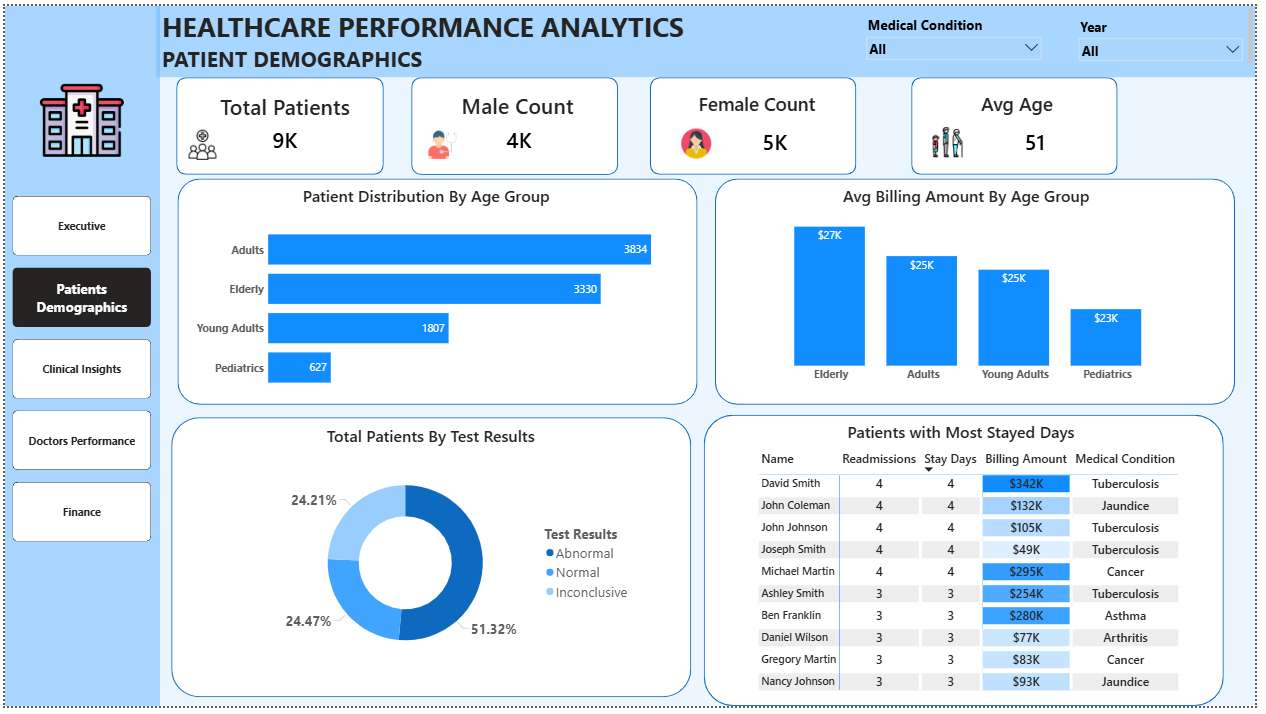

The page's visual inventory and layout, read from the dashboard file:
{"tool":"powerbi","page":{"name":"Patients Demographics","canvas":[2500,1400],"ordinal":1},"visuals":[{"type":"shape","box":[0,0,310,1400],"z":0},{"type":"shape","box":[1812.5,143,412.5,195],"z":1000},{"type":"shape","box":[302.5,0,2197.5,142.5],"z":2000},{"type":"shape","box":[1290.6,143,412.5,195],"z":3000},{"type":"textbox","box":[310,0,2190,127.5],"z":4000},{"type":"shape","box":[813.7,142.5,413.6,195.5],"z":5000},{"type":"slicer","fields":{"Values":["Healthcare Dataset.Medical Condition"]},"box":[1713.6,15,370,102.5],"z":6000},{"type":"shape","box":[342.9,142.5,415,195],"z":7000},{"type":"slicer","fields":{"Values":["Date_Table.Year"]},"box":[2138.6,17.5,347.5,100],"z":8000},{"type":"cardVisual","fields":{"Data":["_Measures.Total Patients"]},"box":[422.9,217.5,275,97.5],"z":9000},{"type":"image","box":[65,145,177.5,167.5],"z":10000},{"type":"textbox","box":[375.4,167.5,370,72.5],"z":11000},{"type":"image","box":[1835,242.5,100,60],"z":12000},{"type":"cardVisual","fields":{"Data":["_Measures.Male Count"]},"box":[897.8,217.5,261.4,97.7],"z":13000},{"type":"image","box":[1332.5,245,100,60],"z":14000},{"type":"textbox","box":[841,165.2,370.5,72.7],"z":15000},{"type":"image","box":[824.1,247.5,100,60],"z":16000},{"type":"cardVisual","fields":{"Data":["_Measures.Female Count"]},"box":[1420.6,220.5,240,100],"z":17000},{"type":"image","box":[345.4,247.5,100,60],"z":18000},{"type":"textbox","box":[1316.7,165.6,372.5,72.5],"z":19000},{"type":"shape","box":[344.6,345.9,1040,452.5],"z":20000},{"type":"cardVisual","fields":{"Data":["_Measures.Avg Age"]},"box":[1942.5,220.5,235,100],"z":21000},{"type":"textbox","box":[574.8,351.6,535,52.5],"z":22000},{"type":"textbox","box":[1837.5,165.5,372.5,72.5],"z":23000},{"type":"shape","box":[1420.2,345,1040,452.5],"z":24000},{"type":"shape","box":[332.5,822.5,1040,560],"z":25000},{"type":"shape","box":[1397.5,817.5,1040,582.5],"z":26000},{"type":"textbox","box":[583.8,832.5,532.5,55],"z":27000},{"type":"textbox","box":[1652.9,352.5,540,52.5],"z":28000},{"type":"textbox","box":[1631.2,825,550,52.5],"z":29000},{"type":"pageNavigator","box":[15,380,277.5,695],"z":30000},{"type":"clusteredBarChart","title":"Patients Distribution by Age Group","fields":{"Category":["Healthcare Dataset.Age Group"],"Y":["_Measures.Total Patients"]},"box":[377.1,413.4,972.5,380],"z":31000},{"type":"donutChart","title":"Patients by Test Results","fields":{"Category":["Healthcare Dataset.Test Results"],"Y":["_Measures.Total Patients"]},"box":[517.5,890,742.5,447.5],"z":32000},{"type":"columnChart","fields":{"Category":["Healthcare Dataset.Age Group"],"Y":["Avg(Healthcare Dataset.Billing Amount)"]},"box":[1500.4,427.5,857.5,335],"z":33000},{"type":"pivotTable","title":"Patients with Most Stayed Days","fields":{"Rows":["Healthcare Dataset.Name"],"Values":["_Measures.Readmissions Count","Sum(Healthcare Dataset.Stay Duration)","Sum(Healthcare Dataset.Billing Amount)","Min(Healthcare Dataset.Medical Condition)"]},"box":[1502.5,882.5,862.5,500],"z":34000}]}

Visuals, with their boxes in screenshot pixels (x1, y1, x2, y2), scaled from the page's 2500x1400 canvas onto the 1266x714 screenshot:
shape: x1=0 y1=0 x2=157 y2=713
shape: x1=918 y1=73 x2=1127 y2=172
shape: x1=153 y1=0 x2=1265 y2=73
shape: x1=654 y1=73 x2=862 y2=172
textbox: x1=157 y1=0 x2=1265 y2=65
shape: x1=412 y1=73 x2=622 y2=172
slicer - Healthcare Dataset.Medical Condition: x1=868 y1=8 x2=1055 y2=60
shape: x1=174 y1=73 x2=384 y2=172
slicer - Date_Table.Year: x1=1083 y1=9 x2=1259 y2=60
cardVisual - _Measures.Total Patients: x1=214 y1=111 x2=353 y2=161
image: x1=33 y1=74 x2=123 y2=159
textbox: x1=190 y1=85 x2=377 y2=122
image: x1=929 y1=124 x2=980 y2=154
cardVisual - _Measures.Male Count: x1=455 y1=111 x2=587 y2=161
image: x1=675 y1=125 x2=725 y2=156
textbox: x1=426 y1=84 x2=614 y2=121
image: x1=417 y1=126 x2=468 y2=157
cardVisual - _Measures.Female Count: x1=719 y1=112 x2=841 y2=163
image: x1=175 y1=126 x2=226 y2=157
textbox: x1=667 y1=84 x2=855 y2=121
shape: x1=175 y1=176 x2=701 y2=407
cardVisual - _Measures.Avg Age: x1=984 y1=112 x2=1103 y2=163
textbox: x1=291 y1=179 x2=562 y2=206
textbox: x1=931 y1=84 x2=1119 y2=121
shape: x1=719 y1=176 x2=1246 y2=407
shape: x1=168 y1=419 x2=695 y2=705
shape: x1=708 y1=417 x2=1234 y2=713
textbox: x1=296 y1=425 x2=565 y2=453
textbox: x1=837 y1=180 x2=1110 y2=207
textbox: x1=826 y1=421 x2=1105 y2=448
pageNavigator: x1=8 y1=194 x2=148 y2=548
"Patients Distribution by Age Group" clusteredBarChart: x1=191 y1=211 x2=683 y2=405
"Patients by Test Results" donutChart: x1=262 y1=454 x2=638 y2=682
columnChart - Healthcare Dataset.Age Group x Avg(Healthcare Dataset.Billing Amount): x1=760 y1=218 x2=1194 y2=389
"Patients with Most Stayed Days" pivotTable: x1=761 y1=450 x2=1198 y2=705
